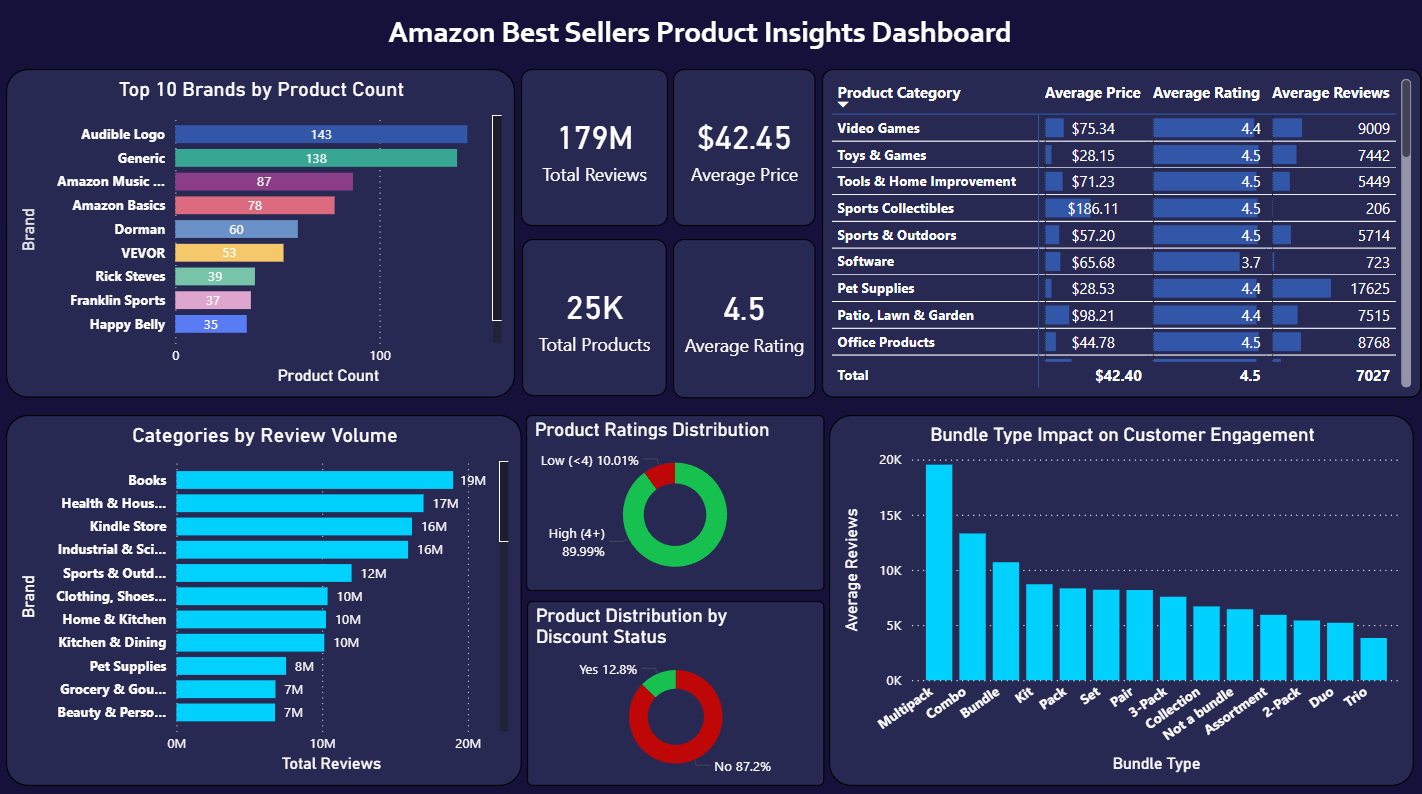

The page's visual inventory and layout, read from the dashboard file:
{"tool":"powerbi","page":{"name":"Dash","canvas":[1280,720],"ordinal":0},"visuals":[{"type":"card","fields":{"Values":["amazon_analysis products.Product Count"]},"box":[472.6,217,130.2,140.8],"z":0},{"type":"card","fields":{"Values":["amazon_analysis products.Average Rating"]},"box":[607.7,217,128.3,142.8],"z":1000},{"type":"card","fields":{"Values":["amazon_analysis products.Total Reviews"]},"box":[471.7,64.6,132.1,140.8],"z":2000},{"type":"card","fields":{"Values":["Avg(amazon_analysis products.listedPrice)"]},"box":[607.8,64.6,128.4,140.9],"z":3000},{"type":"barChart","title":"Top 10 Brands by Product Count","fields":{"Category":["amazon_analysis products.brandName_cleaned","amazon_analysis products.product_category"],"Y":["amazon_analysis products.Product Count"],"Series":["amazon_analysis products.brandName_cleaned"]},"box":[9,64.6,457,295.4],"z":4000},{"type":"donutChart","title":"Product Distribution by Discount Status","fields":{"Category":["amazon_analysis products.Discount Status"],"Y":["CountNonNull(amazon_analysis products.product_id)"]},"box":[476.5,542.1,267.2,165.9],"z":5000},{"type":"donutChart","title":"Product Ratings Distribution","fields":{"Category":["amazon_analysis products.Rating Category"],"Y":["CountNonNull(amazon_analysis products.product_id)"]},"box":[475.8,375.3,267.5,158],"z":6000},{"type":"barChart","title":"Categories by  Review Volume","fields":{"Y":["amazon_analysis products.Total Reviews"],"Category":["amazon_analysis products.product_category"]},"box":[9,375.3,463.2,333.1],"z":7000},{"type":"pivotTable","fields":{"Rows":["amazon_analysis products.product_category"],"Values":["Avg(amazon_analysis products.listedPrice)","Avg(amazon_analysis products.rating)","Avg(amazon_analysis products.reviewCount)"]},"box":[741.8,64.6,538.2,295.2],"z":8000},{"type":"textbox","box":[316.9,10.8,630.2,46.7],"z":9000},{"type":"columnChart","title":"Bundle Type Impact on Customer Engagement","fields":{"Category":["amazon_analysis products.bundle_type"],"Y":["Avg(amazon_analysis products.reviewCount)"]},"box":[747.8,375.3,525.2,333.1],"z":10000}]}

Visuals, with their boxes in screenshot pixels (x1, y1, x2, y2), scaled from the page's 1280x720 canvas onto the 1422x794 screenshot:
card - amazon_analysis products.Product Count: bbox(525, 239, 670, 395)
card - amazon_analysis products.Average Rating: bbox(675, 239, 818, 397)
card - amazon_analysis products.Total Reviews: bbox(524, 71, 671, 227)
card - Avg(amazon_analysis products.listedPrice): bbox(675, 71, 818, 227)
"Top 10 Brands by Product Count" barChart: bbox(10, 71, 518, 397)
"Product Distribution by Discount Status" donutChart: bbox(529, 598, 826, 781)
"Product Ratings Distribution" donutChart: bbox(529, 414, 826, 588)
"Categories by  Review Volume" barChart: bbox(10, 414, 525, 781)
pivotTable - amazon_analysis products.product_category x Avg(amazon_analysis products.listedPrice): bbox(824, 71, 1421, 397)
textbox: bbox(352, 12, 1052, 63)
"Bundle Type Impact on Customer Engagement" columnChart: bbox(831, 414, 1414, 781)
